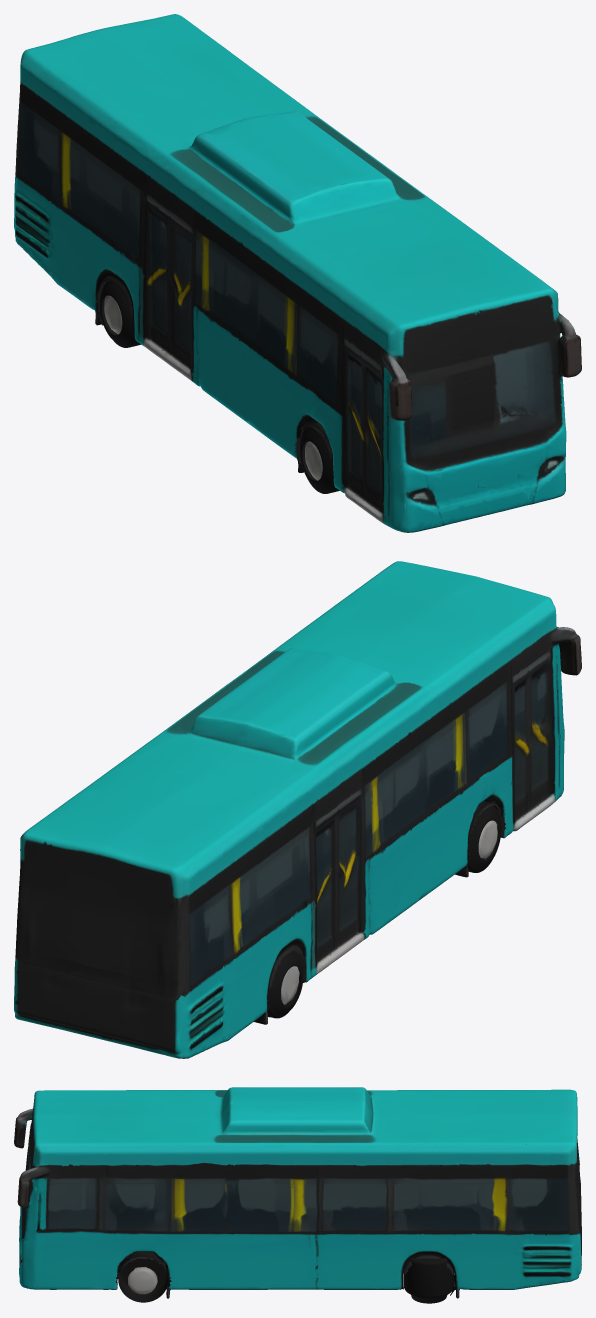
File: Davie_Bus_lod.glb
The picture shows the model from 3 angles, top to bottom: view 1: azimuth 30°, elevation 25°; view 2: azimuth 150°, elevation 25°; view 3: azimuth 270°, elevation 25°; orthographic projection. The views are drawn at different scales.
Visible parts, largest first — view 1: world, Wheel_PR, Wheel_NR; view 2: world, Wheel_NR, Wheel_PR; view 3: world, Wheel_PL, Wheel_NL.
Part boxes in pixels (x1,y1,x2,y2): world: (14,14,581,532); Wheel_PR: (99,280,140,347); Wheel_NR: (300,426,341,493); world: (14,561,581,1058); Wheel_NR: (467,805,501,872); Wheel_PR: (268,951,303,1018); world: (14,1087,581,1298); Wheel_PL: (404,1258,454,1303); Wheel_NL: (118,1258,168,1302).
Bounding box in the file's own units: 0.2776 × 0.3357 × 1.
1 material, 1 textured.
